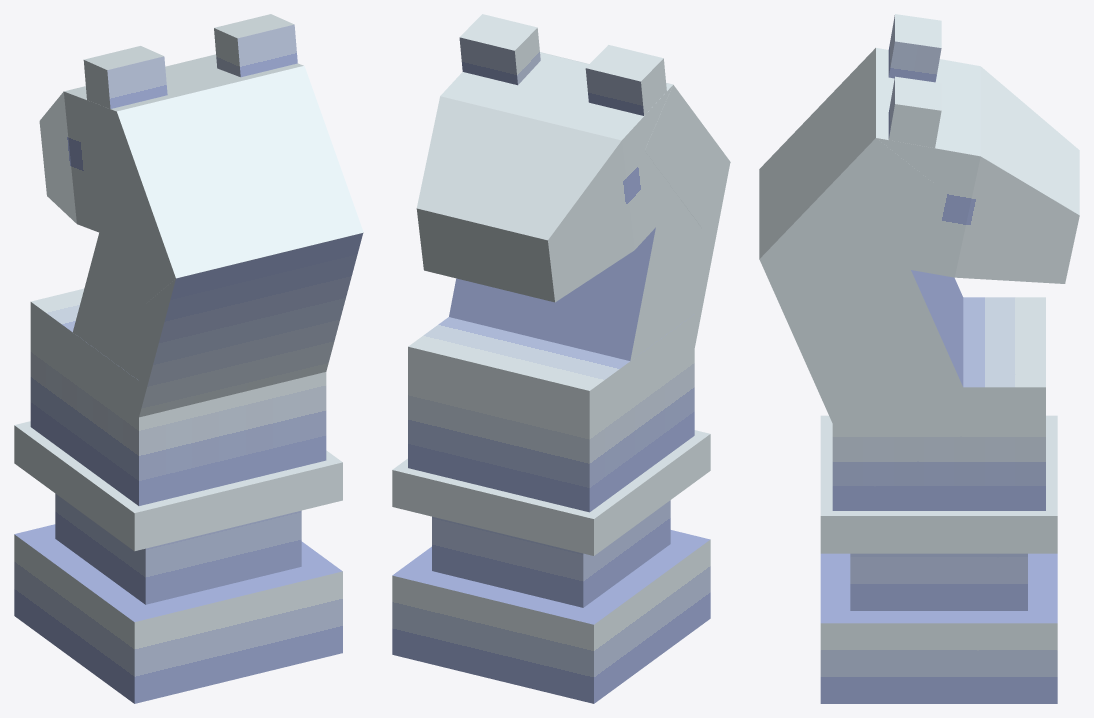
The model's file is Knight White.gltf.
3 views of the same model, side by side, from view 1: azimuth 30°, elevation 25°; view 2: azimuth 150°, elevation 25°; view 3: azimuth 270°, elevation 25° (orthographic). The views are drawn at different scales.
Visible parts, largest first — view 1: cube (×9); view 2: cube (×9); view 3: cube (×9).
Boxes of the visible parts, x1,y1,x2,y2 form: cube (×9): [14, 14, 363, 703]; cube (×9): [392, 14, 730, 703]; cube (×9): [759, 14, 1079, 703].
Bounding box in the file's own units: 0.125 × 0.346 × 0.169.
Materials: 1 (1 with a texture image).
